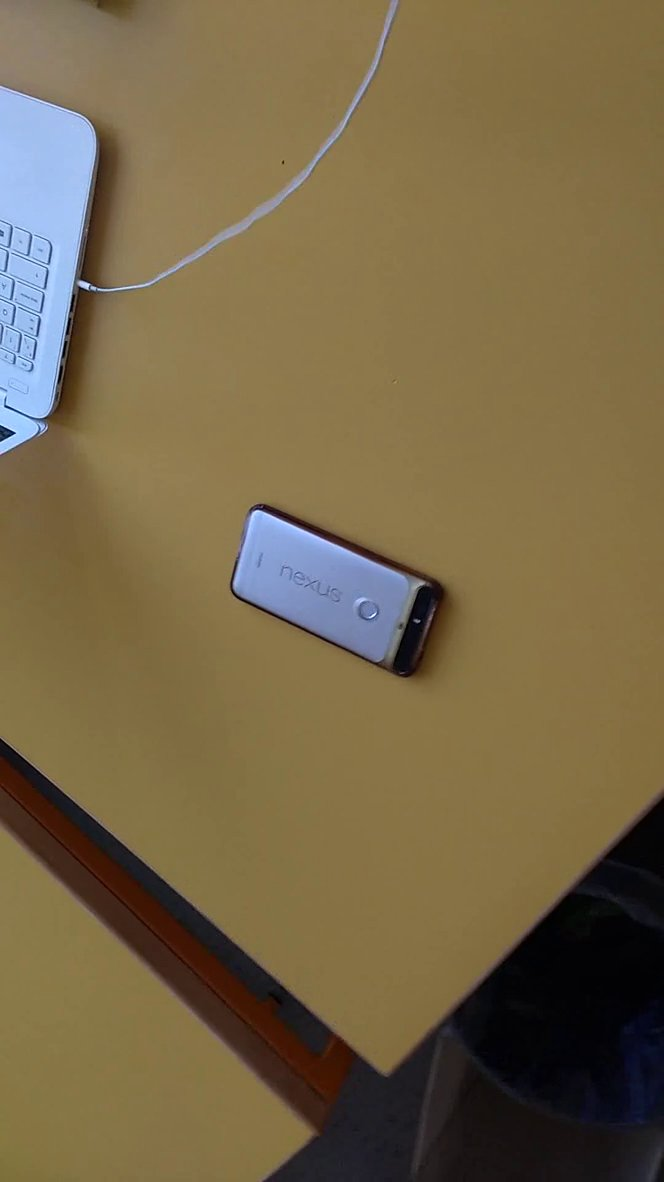phone: (221, 490, 465, 706)
